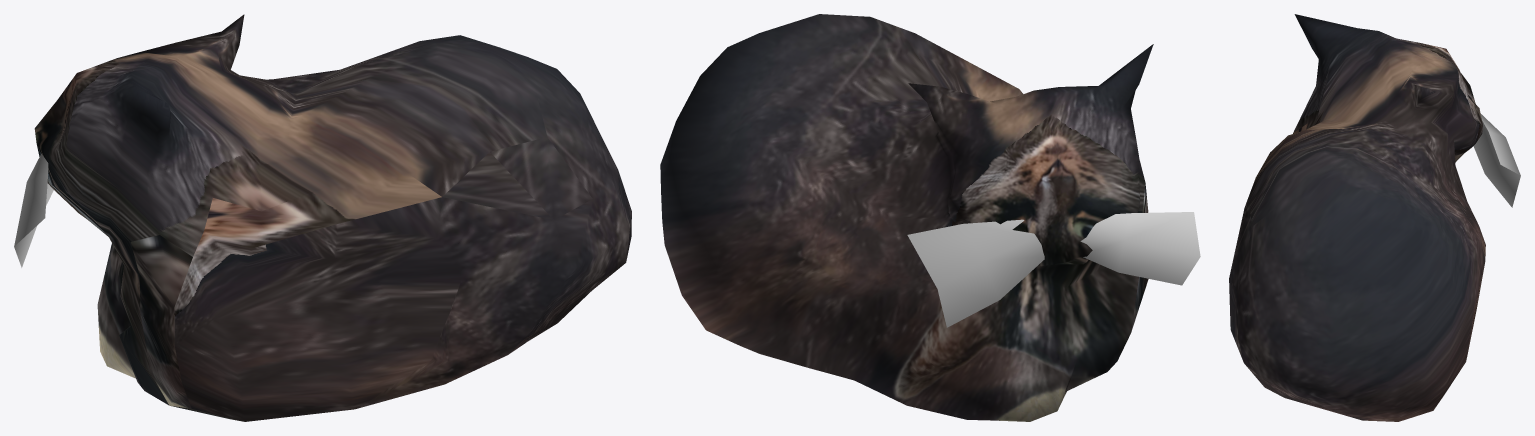
Rendered from poomba.obj.
The picture shows the model from 3 angles, left to right: view 1: azimuth 30°, elevation 25°; view 2: azimuth 150°, elevation 25°; view 3: azimuth 270°, elevation 25°; orthographic projection. The views are drawn at different scales.
Visible parts, largest first — view 1: dingus_dingus_0_dingus_dingus_0.001, dingus_whiskers_0_dingus_whiskers_0.001; view 2: dingus_dingus_0_dingus_dingus_0.001, dingus_whiskers_0_dingus_whiskers_0.001; view 3: dingus_dingus_0_dingus_dingus_0.001, dingus_whiskers_0_dingus_whiskers_0.001.
Part boxes in pixels (left/top/right/bottom): dingus_dingus_0_dingus_dingus_0.001: left=34, top=14, right=631, bottom=421; dingus_whiskers_0_dingus_whiskers_0.001: left=14, top=153, right=53, bottom=267; dingus_dingus_0_dingus_dingus_0.001: left=660, top=14, right=1153, bottom=421; dingus_whiskers_0_dingus_whiskers_0.001: left=907, top=212, right=1200, bottom=327; dingus_dingus_0_dingus_dingus_0.001: left=1229, top=14, right=1485, bottom=421; dingus_whiskers_0_dingus_whiskers_0.001: left=1473, top=114, right=1520, bottom=207.
Bounding box in the file's own units: 1.93 × 1.11 × 1.09.
